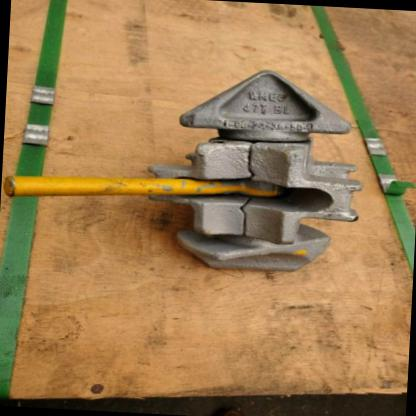Twistlock: (4, 63, 364, 280)
